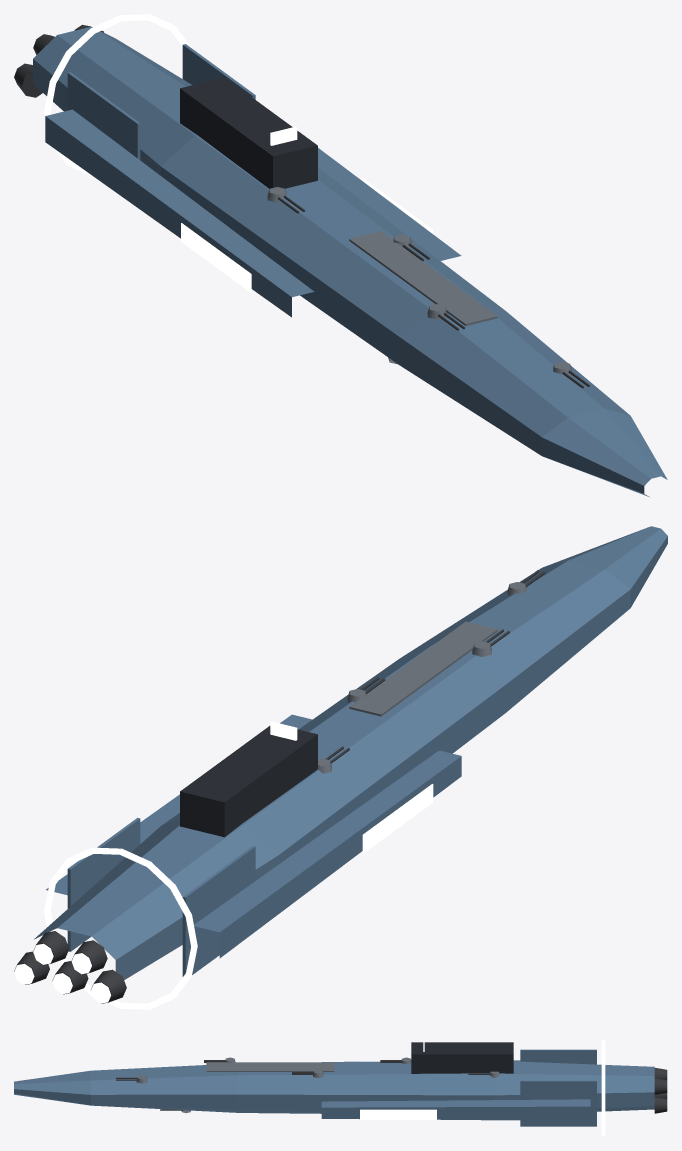
The model's file is space_ship_cruiser_mk6.glb.
3 views of the same model, one above another, from view 1: azimuth 30°, elevation 25°; view 2: azimuth 150°, elevation 25°; view 3: azimuth 270°, elevation 25° (orthographic). The views are drawn at different scales.
Parts seen in each view (by area): view 1: body, hangar_r; view 2: body, hangar_r, engine_1, engine_3, engine_0, engine_4, engine_2; view 3: body, hangar_l, engine_4, engine_3.
Boxes of the visible parts, x1,y1,x2,y2 form: body: (33, 14, 667, 496); hangar_r: (181, 223, 251, 292); body: (34, 526, 667, 1009); hangar_r: (362, 784, 433, 853); engine_1: (71, 940, 107, 974); engine_3: (33, 931, 69, 964); engine_0: (90, 969, 126, 1003); engine_4: (14, 951, 49, 984); engine_2: (52, 961, 88, 994); body: (14, 1038, 654, 1136); hangar_l: (360, 1109, 436, 1119); engine_4: (654, 1097, 667, 1113); engine_3: (654, 1078, 667, 1094).
Size of what is drawn, in the model's own units: 18.56 by 15.97 by 105.
